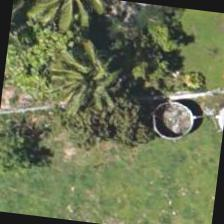Kelapa_Sawit: (38, 25, 138, 125)
